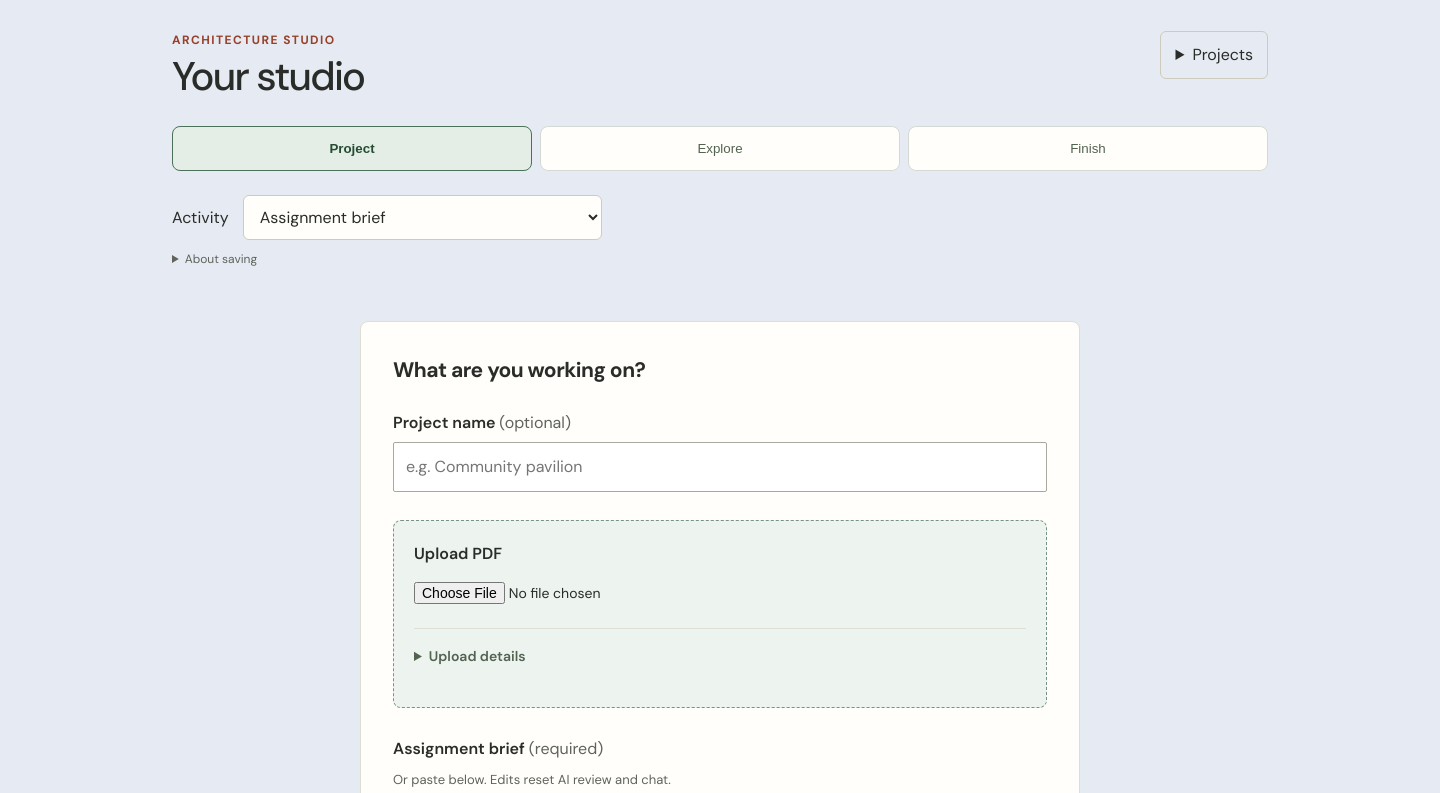
Scenario: assignment tutor workflow › shows configuration errors without pretending the assignment was analyzed
This screenshot has width=1440, height=793.
(page scrolled)
Step 1. Select "Assignment brief" in the dropdown labelled "Activity" → (422, 218), box [243,195,602,240]
(page scrolled)
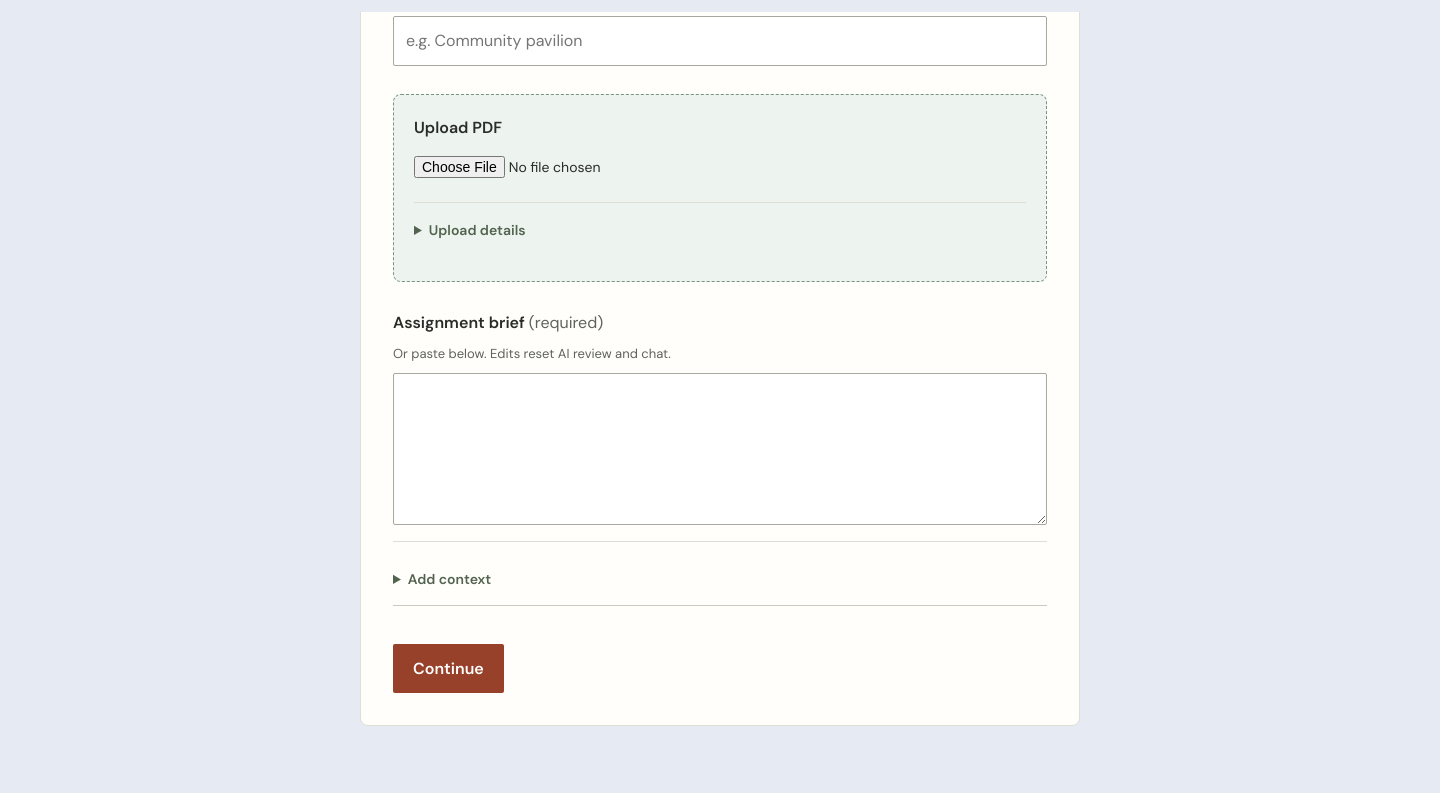
Step 2. Type "Design a community pavilion. Submit two sections by October 20." into the text box labelled "Assignment brief (required)" → (720, 449), box [393,373,1047,525]
(page scrolled)
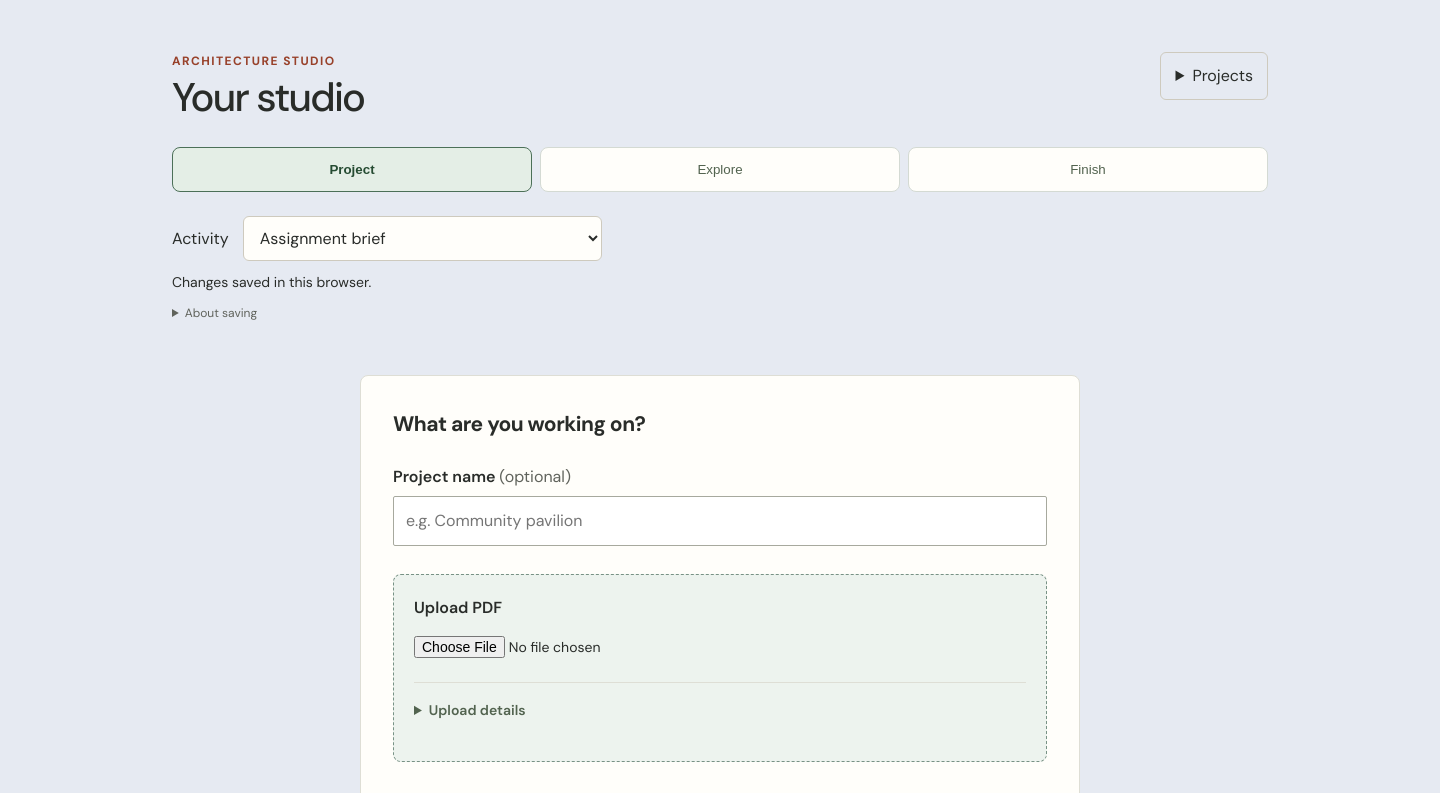
Step 3. Select "Review requirements" in the dropdown labelled "Activity" → (422, 238), box [243,216,602,261]
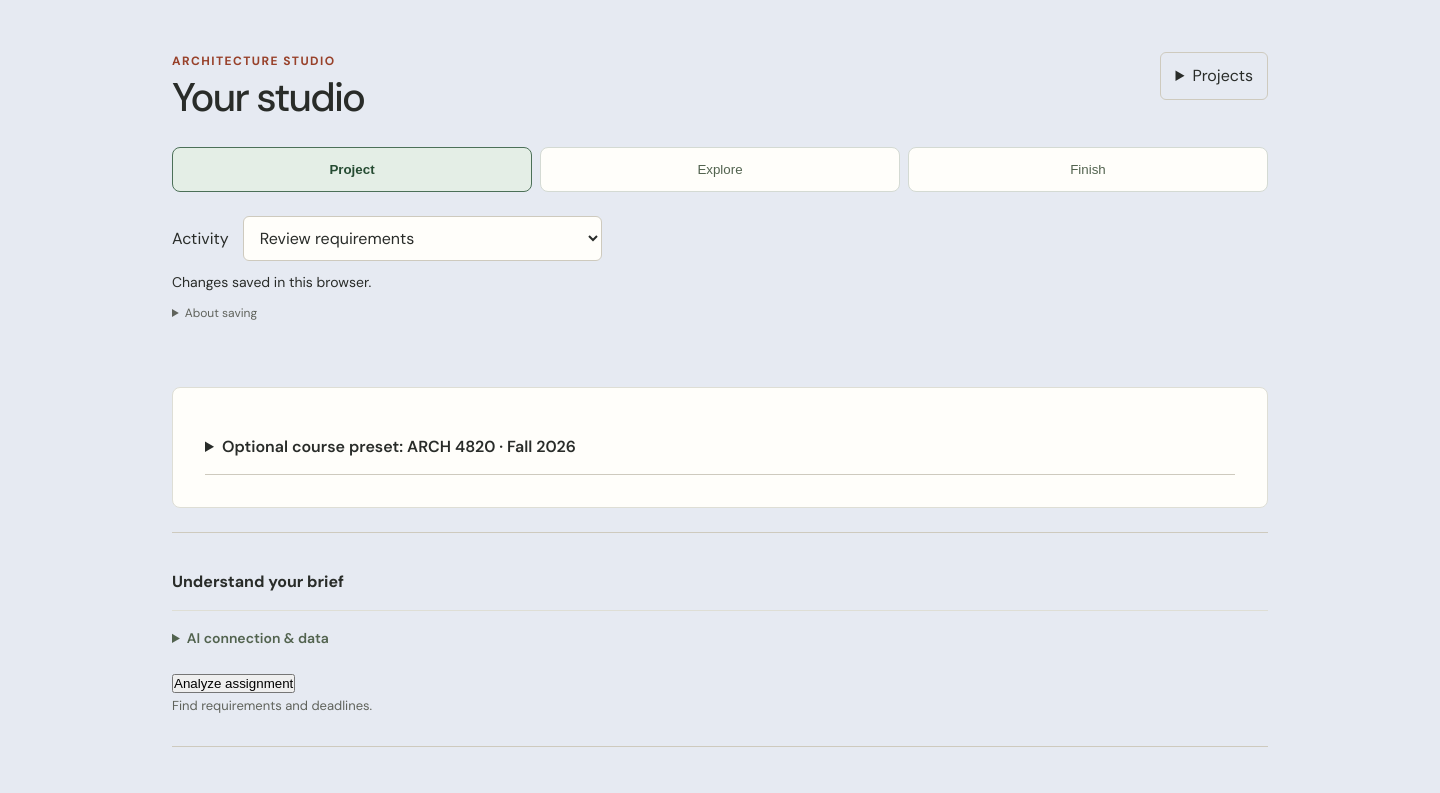
Step 4. Click the button "Analyze assignment" → (234, 683), box [172,674,295,693]
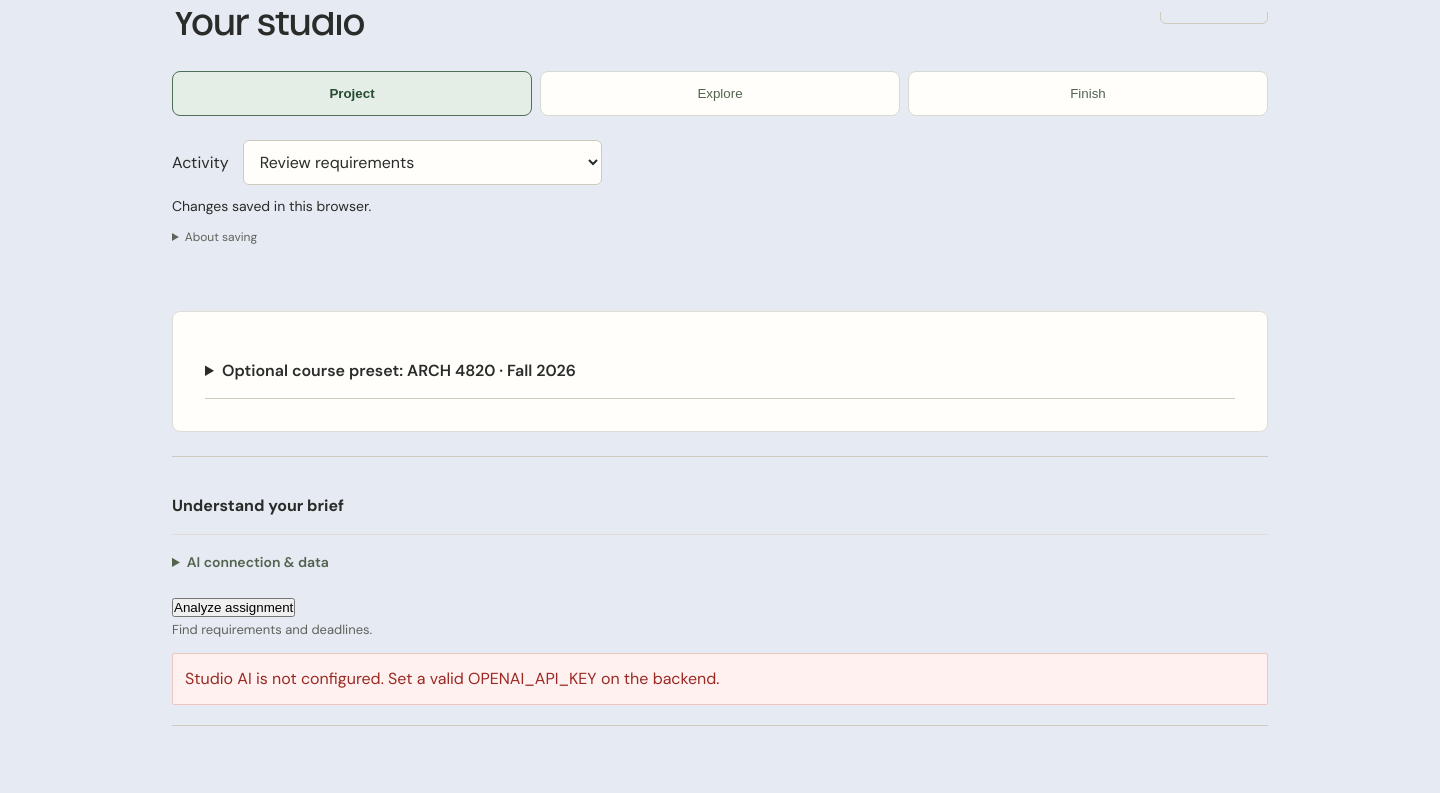
Now the button "Analyze assignment" is enabled, box [172,598,295,617]
Now the message "Studio AI is not configured. Set a valid OPENAI_API_KEY on the backend." is shown, box [172,653,1268,705]
